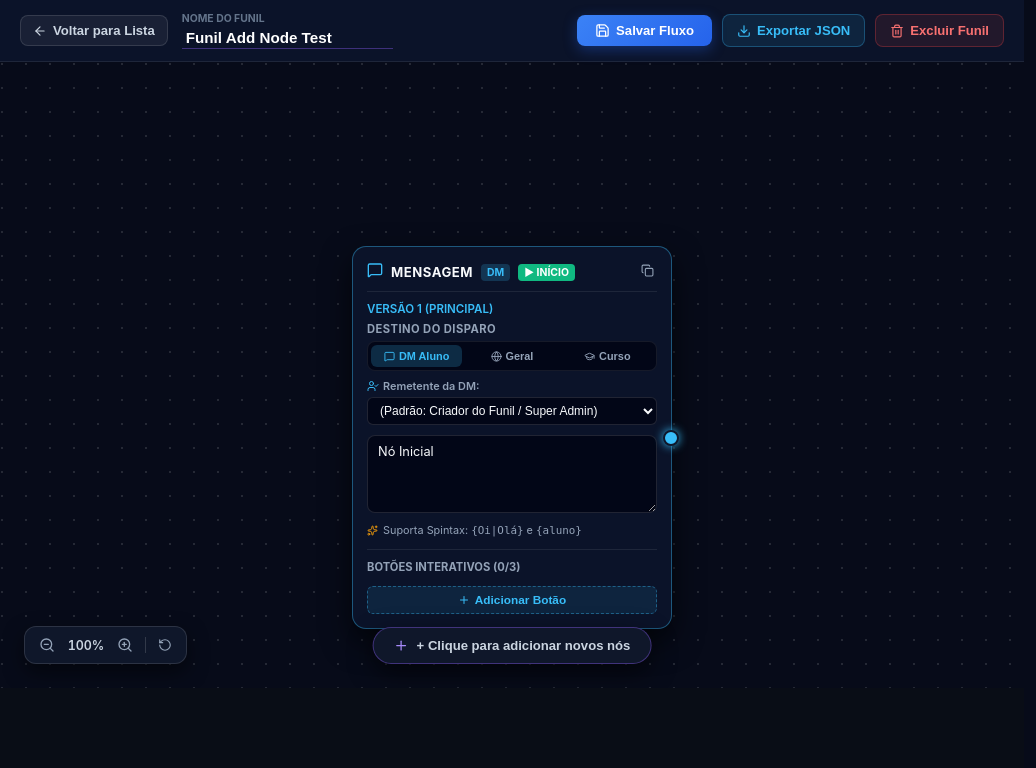
Funnel Components Unit Tests › opens node menu and successfully adds a new delay node to the canvas
The width and height of the screenshot is (1036, 768).
# Clica no botão central inferior para abrir o menu de adicionar nós
Step 1. Click the button with test id "add-node-canvas-btn" → [512, 646], box [373,627,651,664]
(page scrolled)
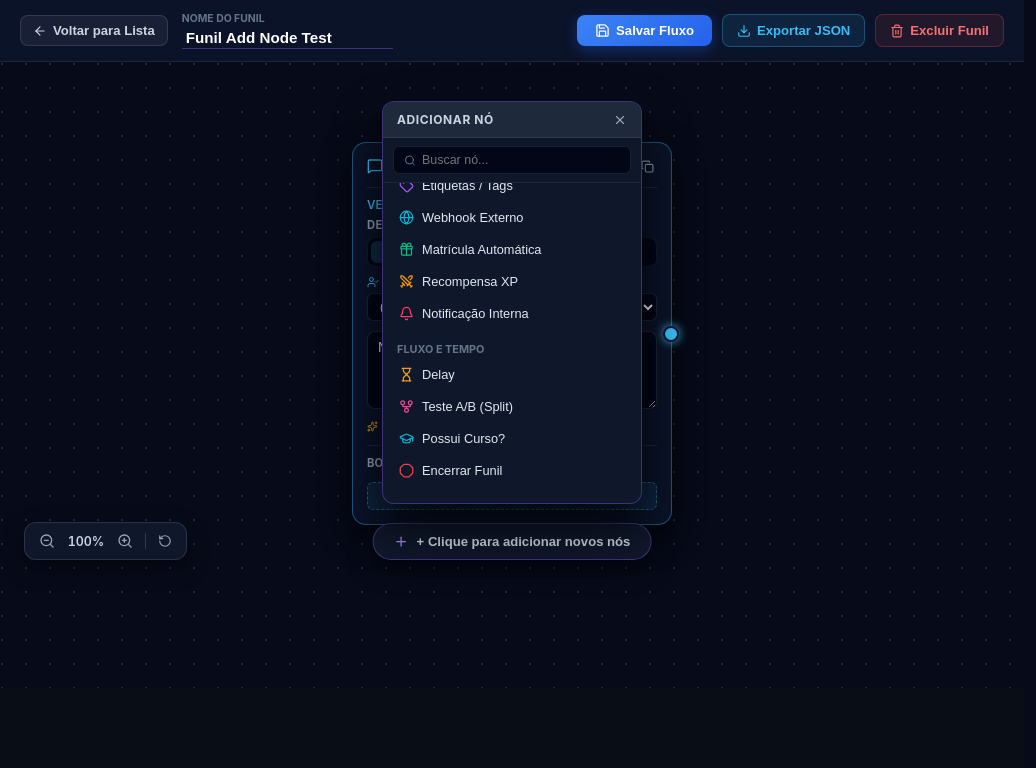
Expected: the element with test id "funnel-node-menu" is shown, [382,101,642,504]
# Clica no botão "Delay" para adicionar
Step 2. Click the button with test id "add-node-delay" → [512, 374], box [391,360,633,389]
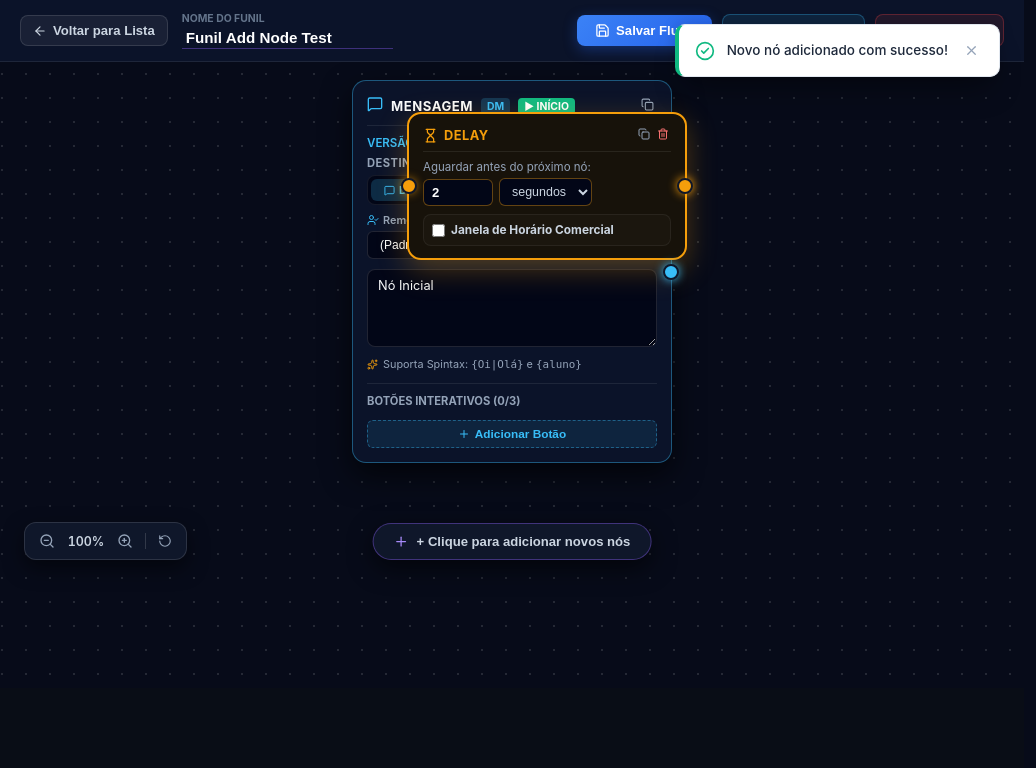
Expected: the text "DELAY" is shown, [444,128,489,143]
Expected: the element with test id "funnel-node-menu" is gone
